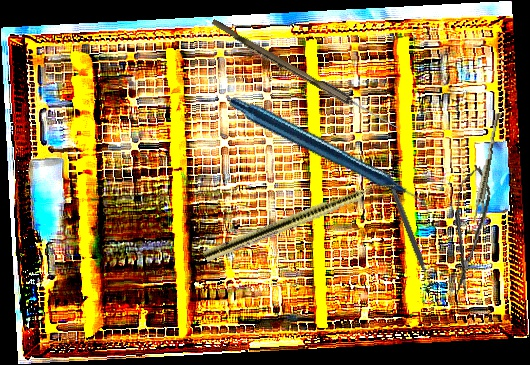Fixation Ring: (378, 171, 444, 294)
Handpiece: (227, 41, 432, 273), (202, 174, 398, 265)
Micro Scissor: (441, 163, 496, 298)
Surgical Spoon: (208, 18, 402, 133)
Tissue Forceps: (472, 111, 502, 225)
